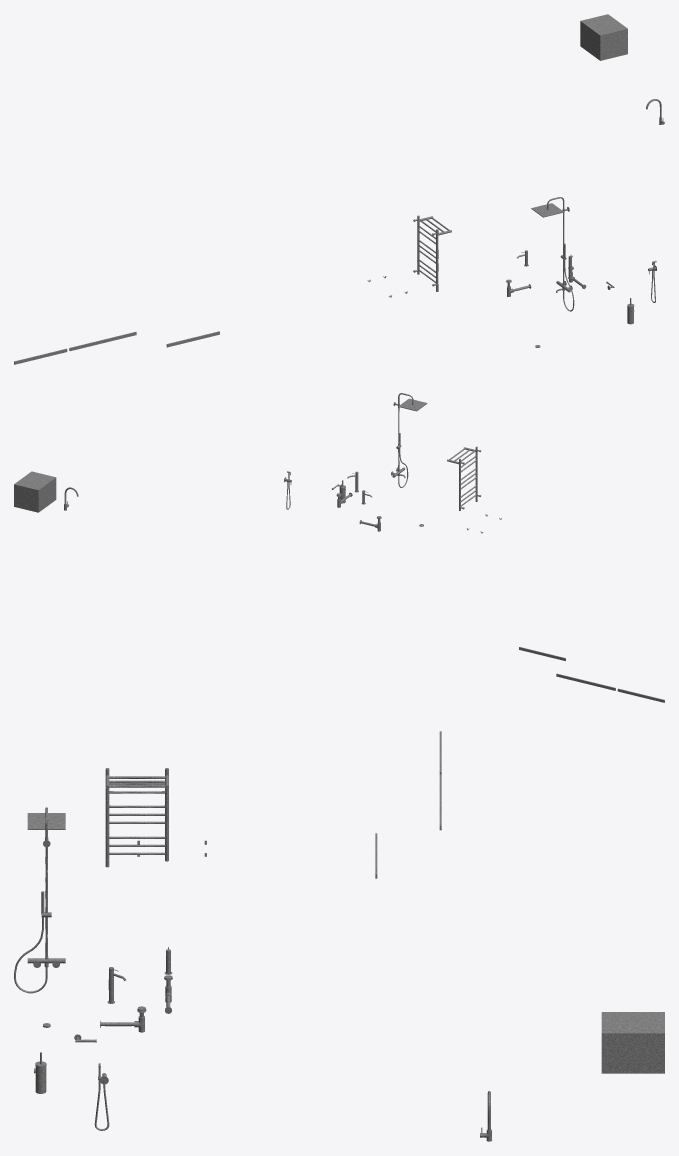
The picture shows the model from 3 angles, top to bottom: view 1: azimuth 30°, elevation 25°; view 2: azimuth 150°, elevation 25°; view 3: azimuth 270°, elevation 25°; orthographic projection. The views are drawn at different scales.
Bounding box in the file's own units: 9.58 × 2.15 × 5.13.
Materials: 1 (1 with a texture image).
